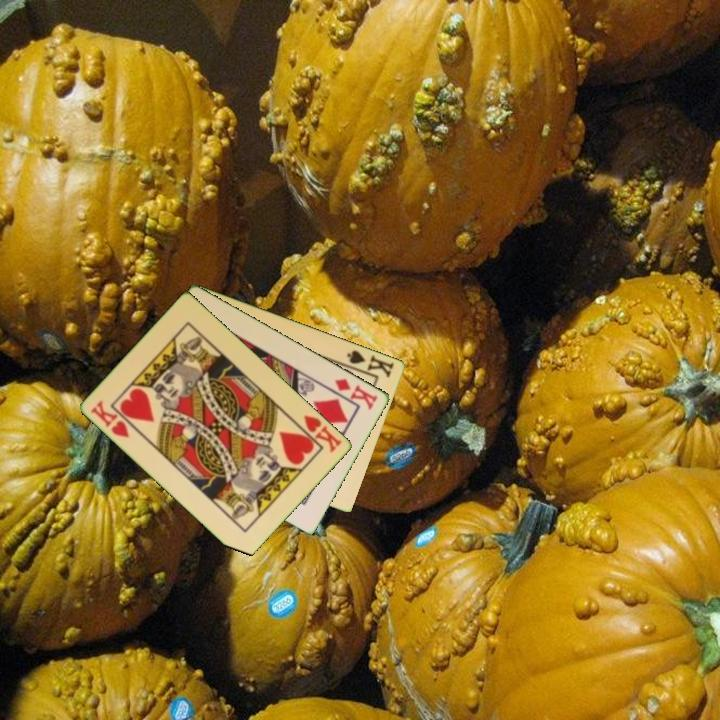Kd: (331, 374, 381, 413)
Kh: (292, 412, 345, 456), (87, 396, 133, 441)
Ks: (340, 346, 397, 380)
